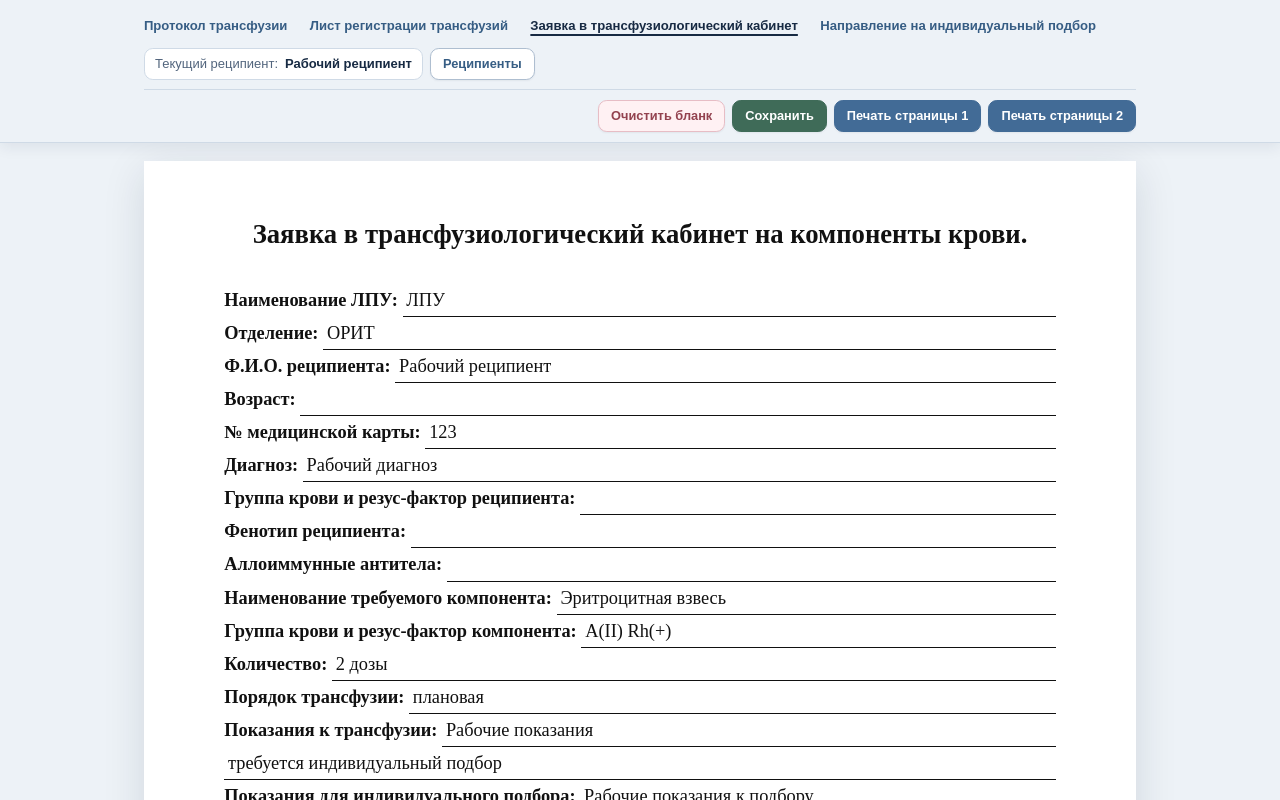
preserves other request data when a working request is saved and closed
The image size is (1280, 800).
Click the button "Сохранить" at (780, 116), box [732,100,827,132]
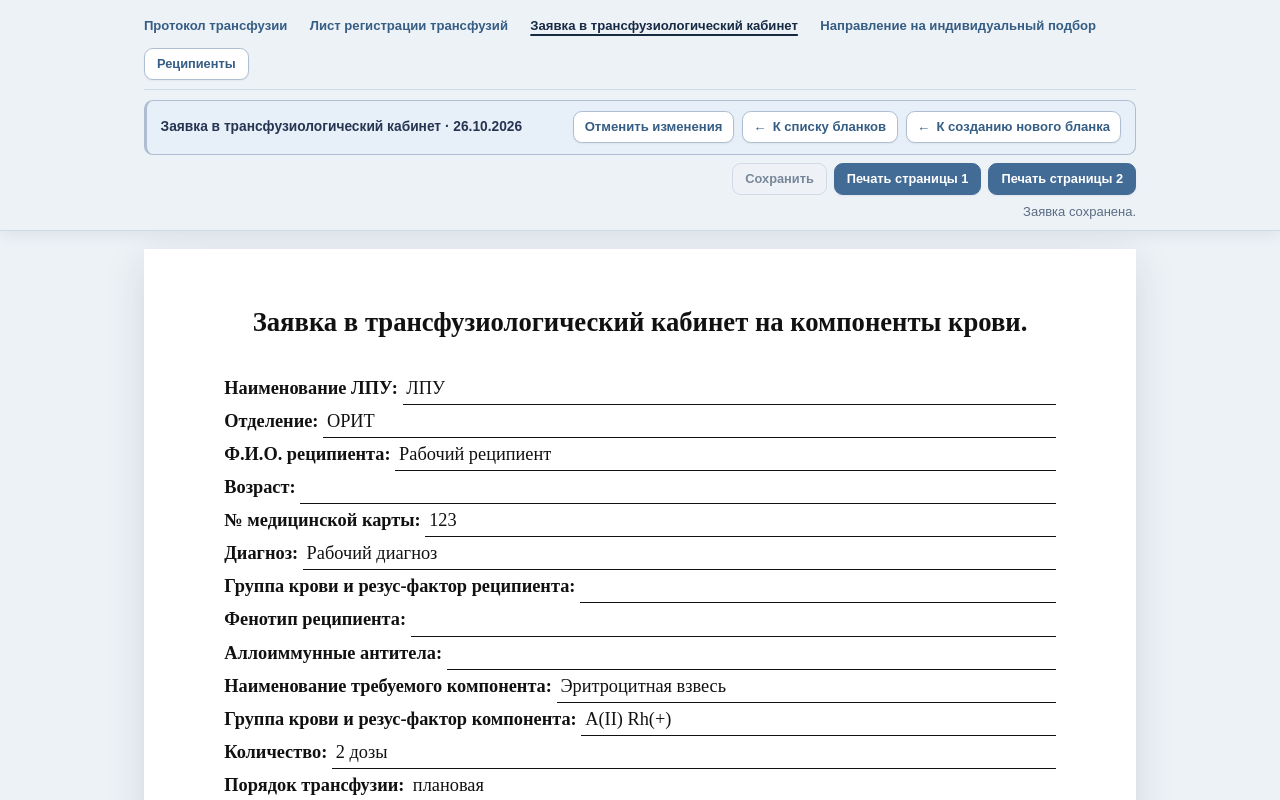
Expected: the button "← К созданию нового бланка" is shown
Expected: the button "Сохранить" is disabled, [732,163,827,195]
Click the button "← К созданию нового бланка" at (1013, 127), box [906,111,1121,143]
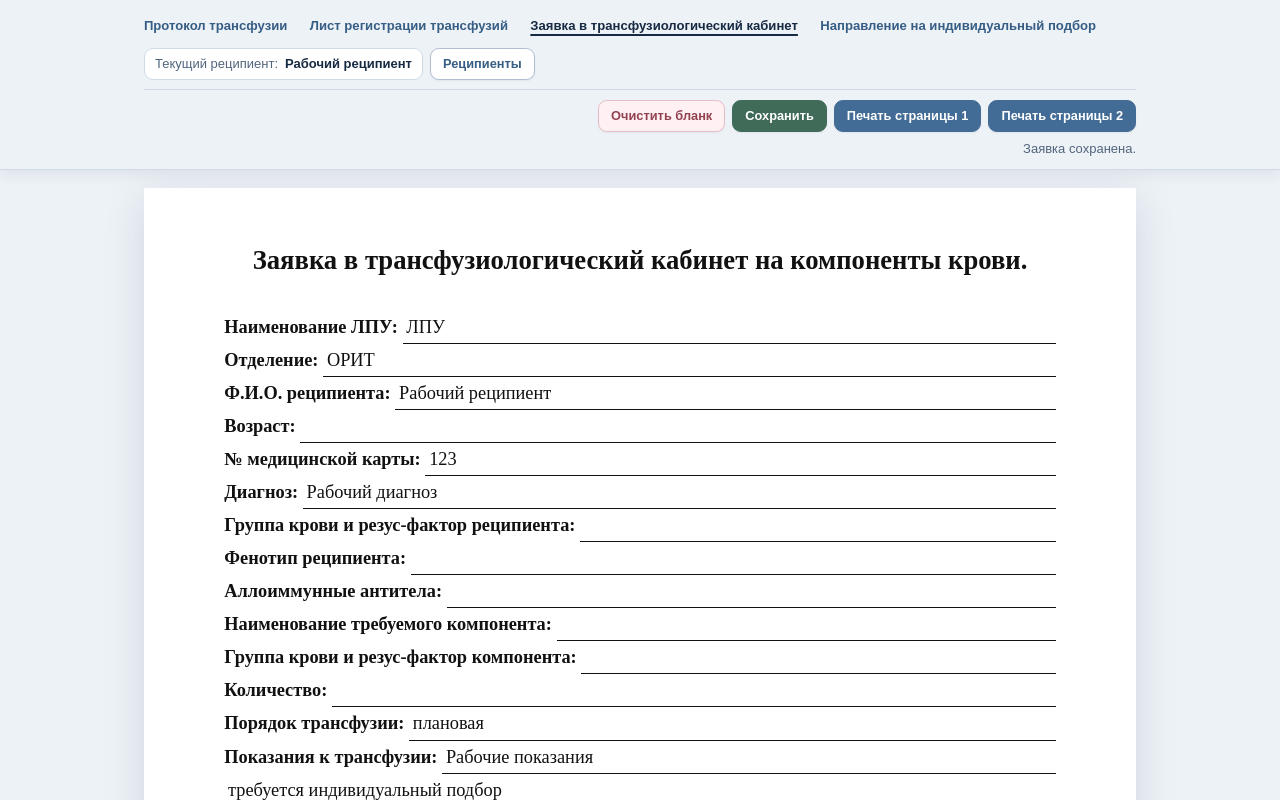
Expected: the text "Рабочий диагноз" is shown, [303,476,1056,509]
Expected: the text "Рабочий реципиент" below "Протокол трансфузии" is shown, [285,56,412,71]
